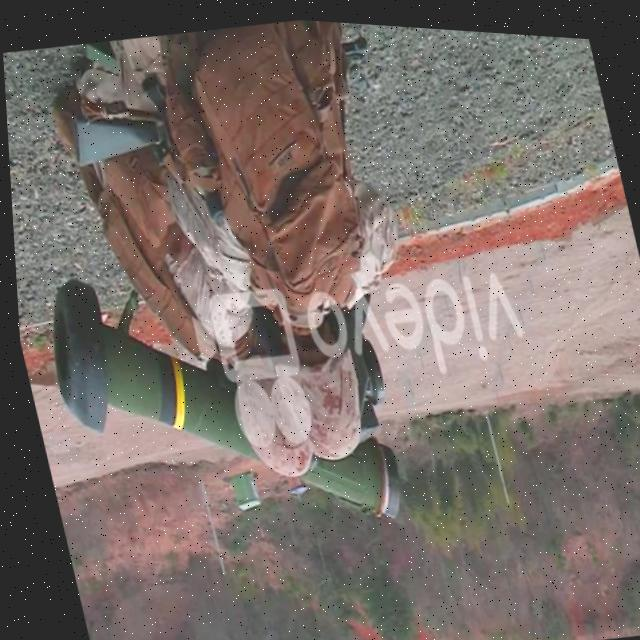rocket: (28, 233, 399, 570)
